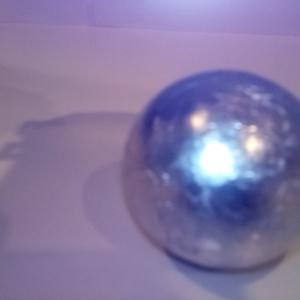alive_ball: (122, 70, 300, 272)
